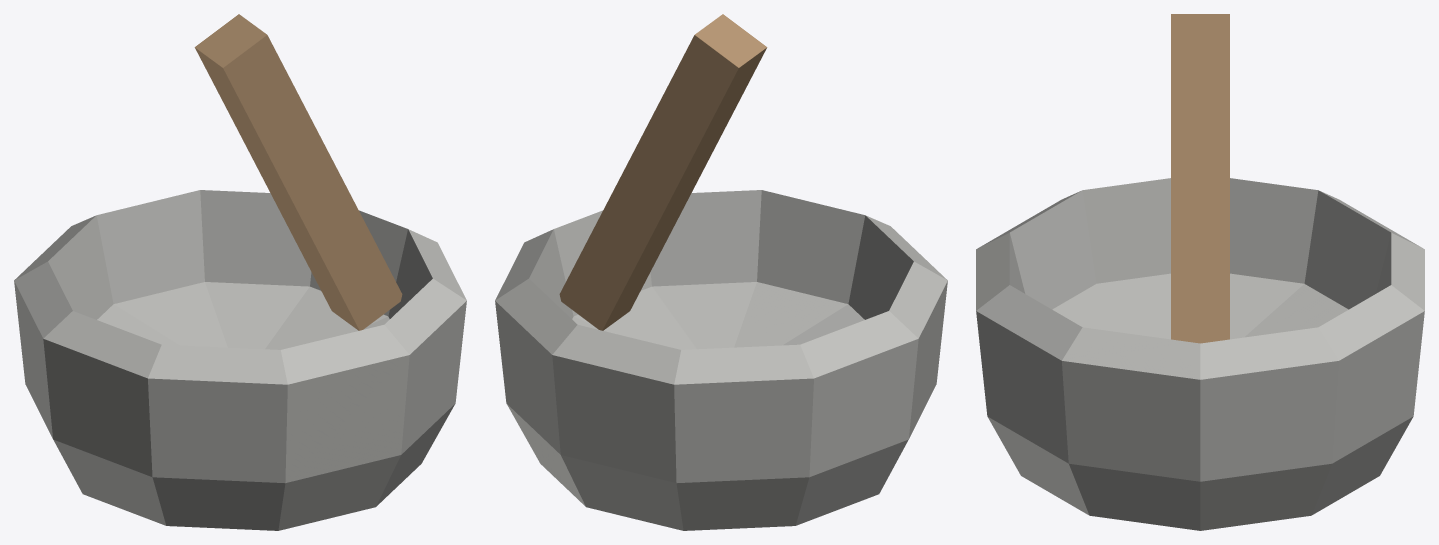
Rendered from prop-mortar-pestle.fbx.
3 renders of one model, left to right at view 1: azimuth 30°, elevation 25°; view 2: azimuth 150°, elevation 25°; view 3: azimuth 270°, elevation 25°, orthographic. The views are drawn at different scales.
Parts seen in each view (by area): view 1: prop-mortar-pestle; view 2: prop-mortar-pestle; view 3: prop-mortar-pestle.
Part boxes in pixels (x1=…): prop-mortar-pestle: x1=14, y1=14, x2=466, y2=530; prop-mortar-pestle: x1=495, y1=14, x2=947, y2=530; prop-mortar-pestle: x1=976, y1=14, x2=1424, y2=530.
Bounding box in the file's own units: 20 × 20.75 × 19.02.
